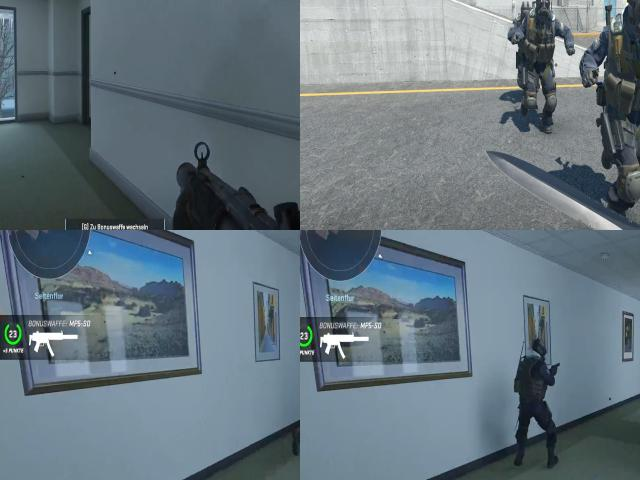CT: (599, 0, 640, 213), (522, 0, 567, 133), (509, 324, 558, 431), (511, 0, 529, 93)
CT-Head: (523, 334, 554, 366), (623, 0, 640, 33), (535, 0, 551, 14), (519, 0, 530, 18)
